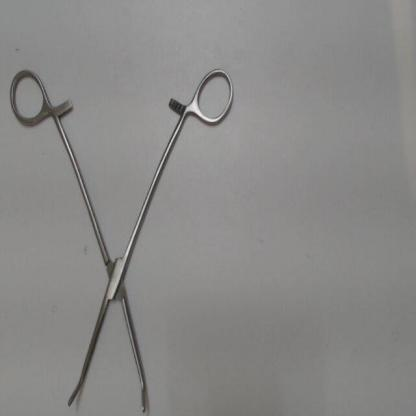Lahey Forceps: (4, 63, 240, 415)
